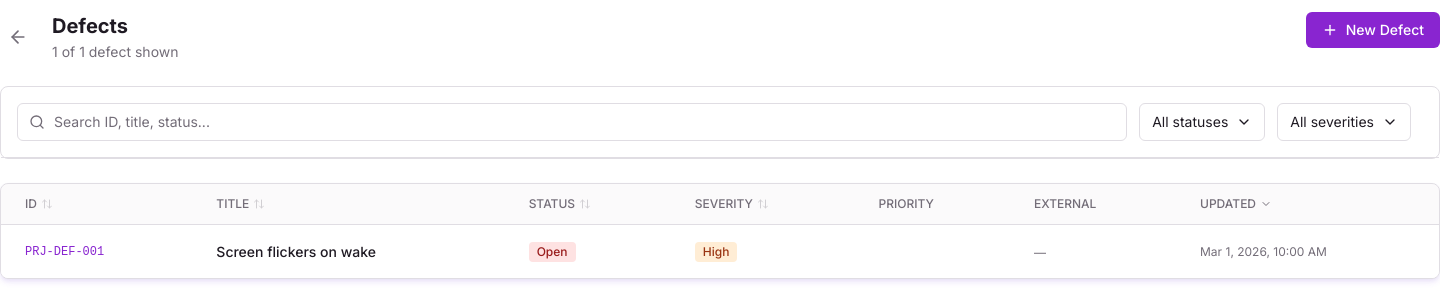
it: raising a defect › filters the list without going back to the server
Type "nothing matches" into the search field with placeholder "Search ID, title, status...". click: (572, 122)
box: [17,103,1127,141]
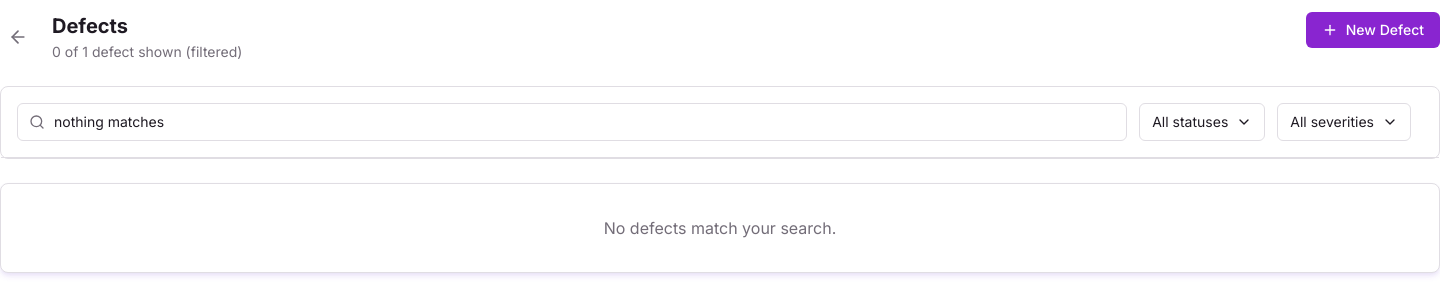
expect the text "Screen flickers on wake" is not shown: met
